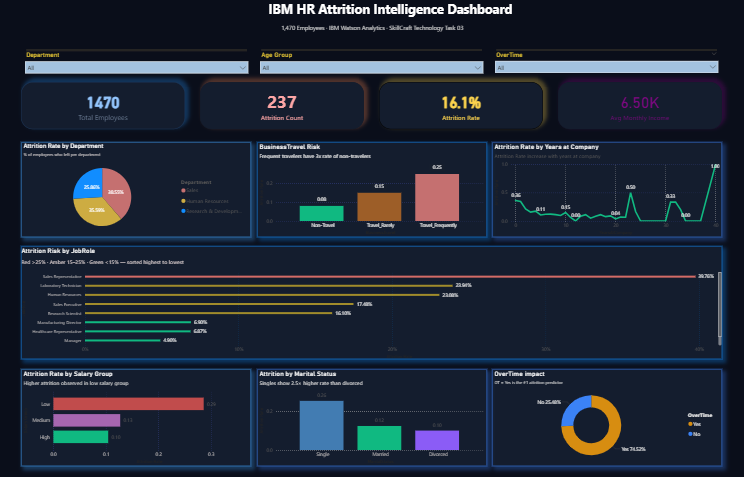

The dashboard page shown, as its layout file describes it:
{"tool":"powerbi","page":{"name":"Attrition Overview","canvas":[1920,1350],"ordinal":0},"visuals":[{"type":"textbox","box":[75,0,1752.5,122.5],"z":0},{"type":"slicer","fields":{"Values":["IBM HR Employee Attrition Data.Department"]},"box":[75,122.5,577.5,87.5],"z":1000},{"type":"slicer","fields":{"Values":["IBM HR Employee Attrition Data.Age Group"]},"box":[662.5,122.5,577.5,87.5],"z":2000},{"type":"slicer","fields":{"Values":["IBM HR Employee Attrition Data.OverTime"]},"box":[1250,122.5,577.5,87.5],"z":3000},{"type":"card","fields":{"Values":["IBM HR Employee Attrition Data.Total Employees"]},"box":[75,210,410,117.5],"z":4000},{"type":"card","fields":{"Values":["IBM HR Employee Attrition Data.Attrition Count"]},"box":[522.5,210,410,117.5],"z":5000},{"type":"card","fields":{"Values":["IBM HR Employee Attrition Data.Attrition Rate"]},"box":[970,210,410,117.5],"z":6000},{"type":"card","fields":{"Values":["IBM HR Employee Attrition Data.Avg Monthly Income"]},"box":[1417.5,210,410,117.5],"z":7000},{"type":"pieChart","fields":{"Category":["IBM HR Employee Attrition Data.Department"],"Y":["IBM HR Employee Attrition Data.Attrition Rate"]},"box":[75,360,575,237.5],"z":8000},{"type":"clusteredBarChart","title":"Attrition Risk by JobRole","fields":{"Y":["IBM HR Employee Attrition Data.Attrition Rate"],"Category":["IBM HR Employee Attrition Data.JobRole"]},"box":[75,620,1752.5,282.5],"z":9000},{"type":"donutChart","title":"OverTime impact","fields":{"Category":["IBM HR Employee Attrition Data.OverTime"],"Y":["IBM HR Employee Attrition Data.Attrition Rate"]},"box":[1252.5,927.5,575,242.5],"z":10000},{"type":"clusteredColumnChart","title":"Attrition by Marital Status","fields":{"Category":["IBM HR Employee Attrition Data.MaritalStatus"],"Y":["IBM HR Employee Attrition Data.Attrition Rate"]},"box":[665,927.5,575,242.5],"z":11000},{"type":"lineChart","title":"Attrition Rate by Years at Company","fields":{"Category":["IBM HR Employee Attrition Data.YearsAtCompany"],"Y":["IBM HR Employee Attrition Data.Attrition Rate"]},"box":[1252.5,360,575,237.5],"z":12000},{"type":"clusteredBarChart","fields":{"Category":["IBM HR Employee Attrition Data.Salary Group","IBM HR Employee Attrition Data.MonthlyIncome"],"Y":["IBM HR Employee Attrition Data.Attrition Rate"]},"box":[75,927.5,575,242.5],"z":13000},{"type":"columnChart","title":" BusinessTravel Risk","fields":{"Y":["IBM HR Employee Attrition Data.Attrition Rate"],"Category":["IBM HR Employee Attrition Data.BusinessTravel"]},"box":[663.8,360,575,237.5],"z":15000}]}

Visuals, with their boxes on the page's 1920x1350 design canvas (x1, y1, x2, y2). These are canvas units, not pixel positions in the 744x477 screenshot, which may show the page scaled, cropped or inside an application window:
textbox: left=75, top=0, right=1828, bottom=122
slicer - IBM HR Employee Attrition Data.Department: left=75, top=122, right=652, bottom=210
slicer - IBM HR Employee Attrition Data.Age Group: left=662, top=122, right=1240, bottom=210
slicer - IBM HR Employee Attrition Data.OverTime: left=1250, top=122, right=1828, bottom=210
card - IBM HR Employee Attrition Data.Total Employees: left=75, top=210, right=485, bottom=328
card - IBM HR Employee Attrition Data.Attrition Count: left=522, top=210, right=932, bottom=328
card - IBM HR Employee Attrition Data.Attrition Rate: left=970, top=210, right=1380, bottom=328
card - IBM HR Employee Attrition Data.Avg Monthly Income: left=1418, top=210, right=1828, bottom=328
pieChart - IBM HR Employee Attrition Data.Department x IBM HR Employee Attrition Data.Attrition Rate: left=75, top=360, right=650, bottom=598
"Attrition Risk by JobRole" clusteredBarChart: left=75, top=620, right=1828, bottom=902
"OverTime impact" donutChart: left=1252, top=928, right=1828, bottom=1170
"Attrition by Marital Status" clusteredColumnChart: left=665, top=928, right=1240, bottom=1170
"Attrition Rate by Years at Company" lineChart: left=1252, top=360, right=1828, bottom=598
clusteredBarChart - IBM HR Employee Attrition Data.Salary Group x IBM HR Employee Attrition Data.MonthlyIncome: left=75, top=928, right=650, bottom=1170
" BusinessTravel Risk" columnChart: left=664, top=360, right=1239, bottom=598
